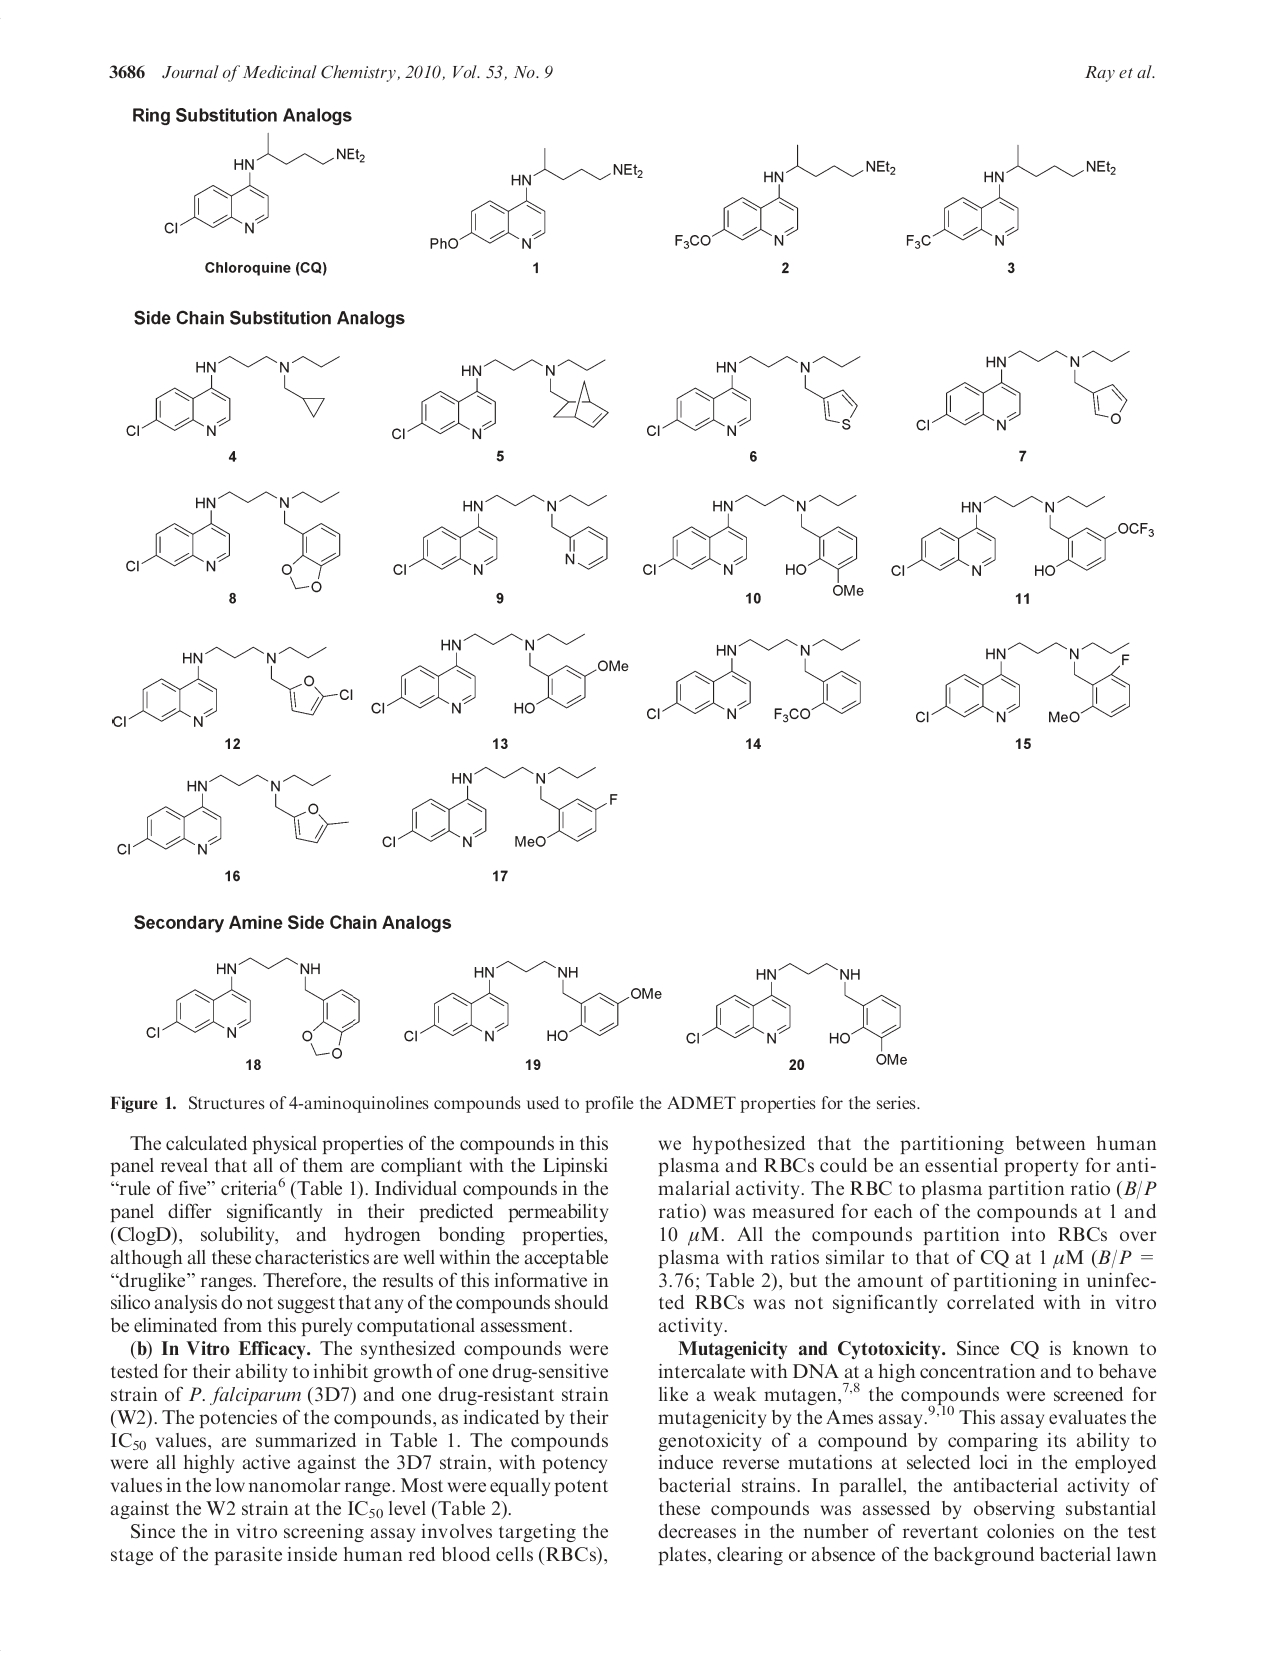exist_molecular: (878, 491, 1172, 589), (128, 473, 360, 594), (410, 146, 664, 255), (402, 947, 668, 1051), (144, 947, 371, 1067), (665, 137, 900, 251), (364, 630, 641, 726), (904, 137, 1129, 253), (904, 626, 1137, 735), (636, 339, 874, 446), (392, 481, 630, 588), (686, 962, 915, 1072), (386, 346, 641, 444), (106, 637, 358, 737), (641, 489, 864, 598), (113, 763, 356, 863), (157, 132, 368, 243), (907, 339, 1144, 439), (646, 621, 868, 719), (386, 761, 622, 852), (122, 346, 350, 439)
